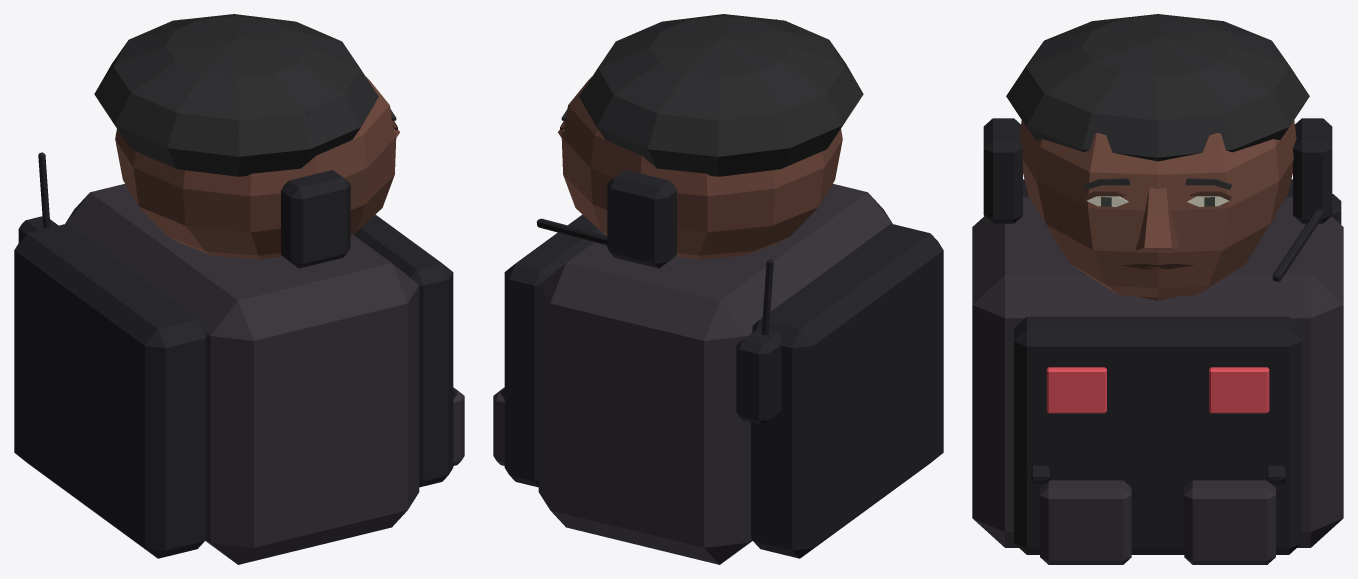
The model's file is crimson-guard.helmet-off.glb.
3 views of the same model, side by side, from view 1: azimuth 30°, elevation 25°; view 2: azimuth 150°, elevation 25°; view 3: azimuth 270°, elevation 25° (orthographic). The views are drawn at different scales.
Visible parts, largest first — view 1: crimson-guard_helmet-off__main__torso_finish_342f35_0.03, crimson-guard_helmet-off__main__torso_finish_201f24_0.03, crimson-guard_helmet-off__main__head_finish_282729_0.03, crimson-guard_helmet-off__main__head, crimson-guard_helmet-off__main__head_finish_201f24_0.03; view 2: crimson-guard_helmet-off__main__torso_finish_342f35_0.03, crimson-guard_helmet-off__main__torso_finish_201f24_0.03, crimson-guard_helmet-off__main__head_finish_282729_0.03, crimson-guard_helmet-off__main__head, crimson-guard_helmet-off__main__head_finish_201f24_0.03; view 3: crimson-guard_helmet-off__main__torso_finish_342f35_0.03, crimson-guard_helmet-off__main__torso_finish_201f24_0.03, crimson-guard_helmet-off__main__head_finish_282729_0.03, crimson-guard_helmet-off__main__head, crimson-guard_helmet-off__main__head_finish_201f24_0.03, crimson-guard_helmet-off__main__torso_finish_e64f5c_0.03.
Boxes of the visible parts, x1,y1,x2,y2 form: crimson-guard_helmet-off__main__torso_finish_342f35_0.03: (65,184,464,564); crimson-guard_helmet-off__main__torso_finish_201f24_0.03: (14,152,457,558); crimson-guard_helmet-off__main__head_finish_282729_0.03: (94,14,378,176); crimson-guard_helmet-off__main__head: (115,76,399,259); crimson-guard_helmet-off__main__head_finish_201f24_0.03: (180,19,350,268); crimson-guard_helmet-off__main__torso_finish_342f35_0.03: (493,184,892,564); crimson-guard_helmet-off__main__torso_finish_201f24_0.03: (500,214,943,558); crimson-guard_helmet-off__main__head_finish_282729_0.03: (579,14,863,176); crimson-guard_helmet-off__main__head: (558,76,842,259); crimson-guard_helmet-off__main__head_finish_201f24_0.03: (536,19,777,268); crimson-guard_helmet-off__main__torso_finish_342f35_0.03: (972,197,1343,564); crimson-guard_helmet-off__main__torso_finish_201f24_0.03: (1014,179,1341,554); crimson-guard_helmet-off__main__head_finish_282729_0.03: (1006,14,1309,161); crimson-guard_helmet-off__main__head: (1019,120,1296,297); crimson-guard_helmet-off__main__head_finish_201f24_0.03: (983,69,1332,281); crimson-guard_helmet-off__main__torso_finish_e64f5c_0.03: (1046,367,1269,413).
Bounding box in the file's own units: 30.25 × 39.5 × 28.35.
